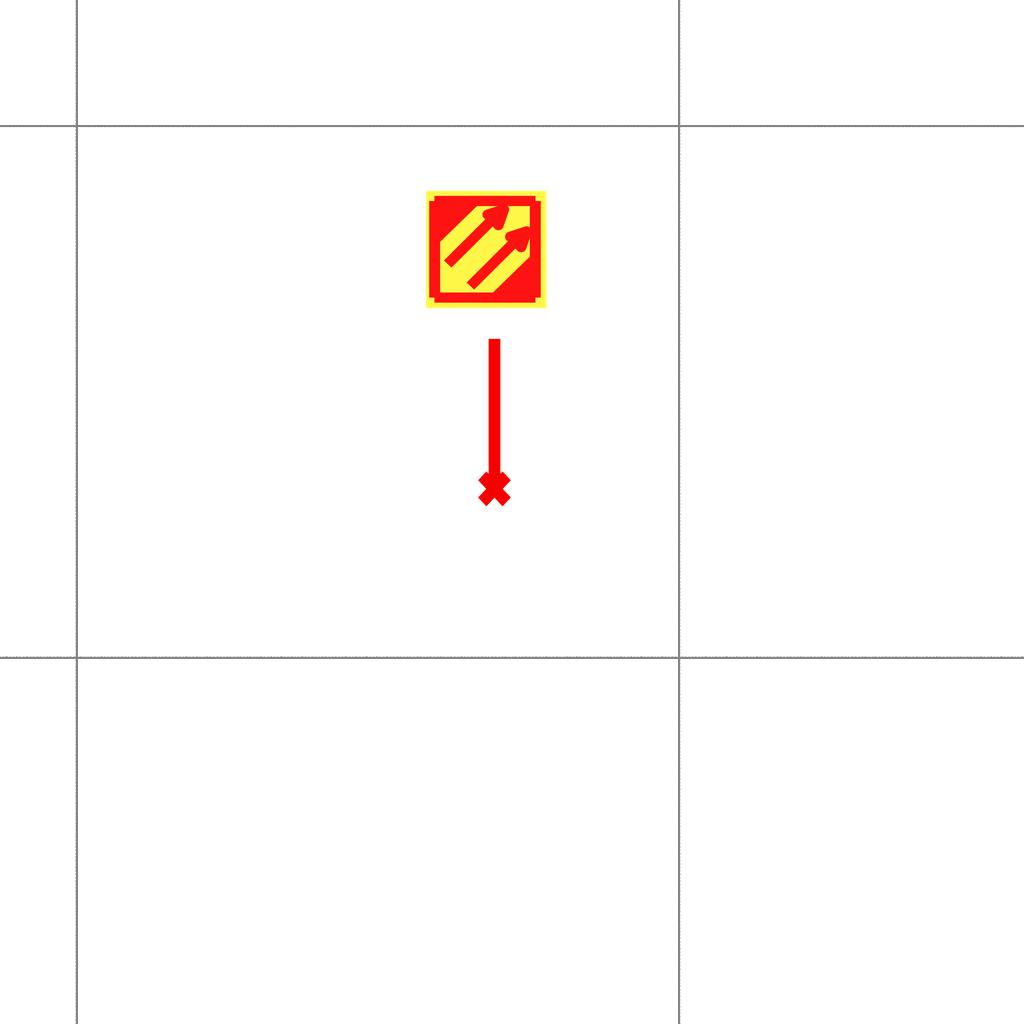ASR_Ansaugoeffnung: (469, 333, 515, 509)
ASR_Ansaugrauchmelder: (424, 187, 549, 312)
